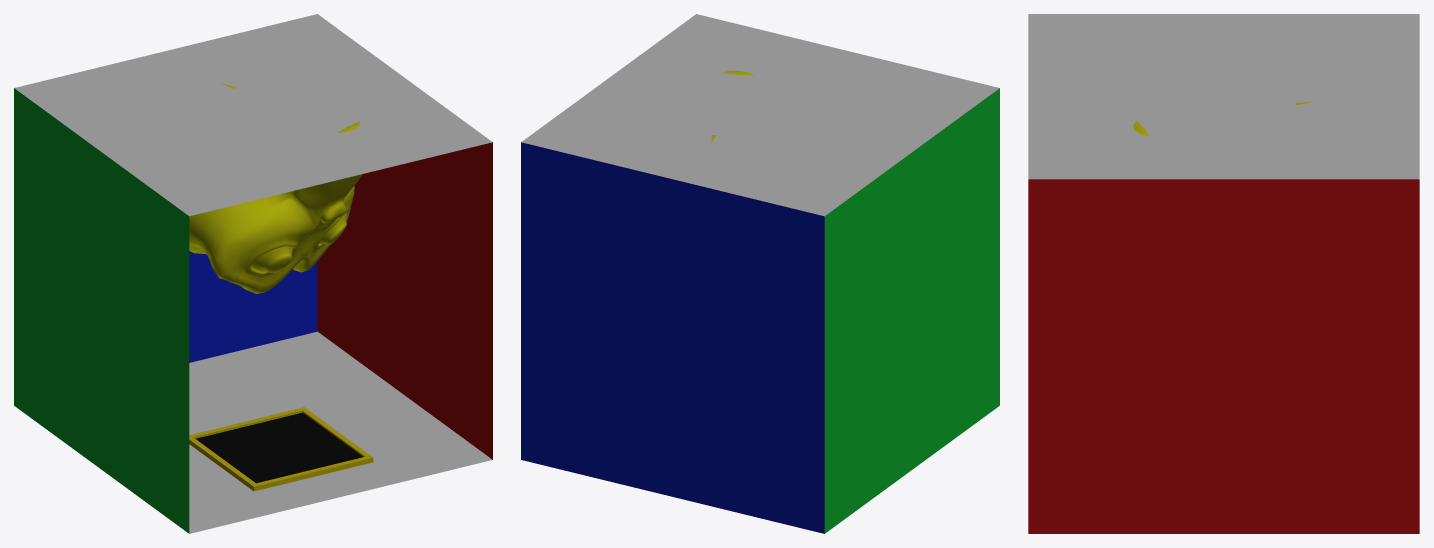
File: tudox.obj
3 views of the same model, side by side, from view 1: azimuth 30°, elevation 25°; view 2: azimuth 150°, elevation 25°; view 3: azimuth 270°, elevation 25° (orthographic). The views are drawn at different scales.
Visible parts, largest first — view 1: right_wall_Plane.002_wall3_right_wall_right_wall_Plane.002_.000, floor_Plane_Floor_floor_floor_Plane_Floor_floor_floor.001, left_wall_Plane.001_wall1_left_wall_left_wall_Plane.001_wal.000, teto_Plane.006_Teto_teto_teto_Plane.006_Teto_teto_teto.001, Suzanne_Suzanne.000, back_wall_Plane.003_wall2_back_wall.001_back_wall_Plane.003.000, light_Plane.004_Plane_ligth_light_Plane.004_Plane_ligth_lig.000, None_Cube.001_Material.000; view 2: back_wall_Plane.003_wall2_back_wall.001_back_wall_Plane.003.000, right_wall_Plane.002_wall3_right_wall_right_wall_Plane.002_.000, floor_Plane_Floor_floor_floor_Plane_Floor_floor_floor.001; view 3: left_wall_Plane.001_wall1_left_wall_left_wall_Plane.001_wal.000, floor_Plane_Floor_floor_floor_Plane_Floor_floor_floor.001.
Boxes of the visible parts, box(x1,y1,x2,y2) form: right_wall_Plane.002_wall3_right_wall_right_wall_Plane.002_.000: box(14, 88, 189, 533); floor_Plane_Floor_floor_floor_Plane_Floor_floor_floor.001: box(14, 14, 492, 216); left_wall_Plane.001_wall1_left_wall_left_wall_Plane.001_wal.000: box(317, 142, 492, 459); teto_Plane.006_Teto_teto_teto_Plane.006_Teto_teto_teto.001: box(189, 331, 492, 533); Suzanne_Suzanne.000: box(189, 83, 362, 293); back_wall_Plane.003_wall2_back_wall.001_back_wall_Plane.003.000: box(189, 251, 317, 362); light_Plane.004_Plane_ligth_light_Plane.004_Plane_ligth_lig.000: box(195, 412, 362, 483); None_Cube.001_Material.000: box(189, 407, 373, 491); back_wall_Plane.003_wall2_back_wall.001_back_wall_Plane.003.000: box(521, 142, 824, 533); right_wall_Plane.002_wall3_right_wall_right_wall_Plane.002_.000: box(824, 88, 999, 533); floor_Plane_Floor_floor_floor_Plane_Floor_floor_floor.001: box(521, 14, 999, 216); left_wall_Plane.001_wall1_left_wall_left_wall_Plane.001_wal.000: box(1028, 179, 1419, 533); floor_Plane_Floor_floor_floor_Plane_Floor_floor_floor.001: box(1028, 14, 1419, 179).
Size of the model in its own units: 15.64 by 15.71 by 15.64.
